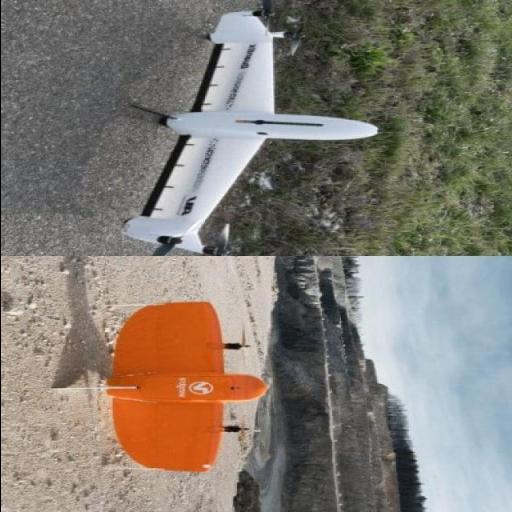uav: (84, 300, 270, 470)
